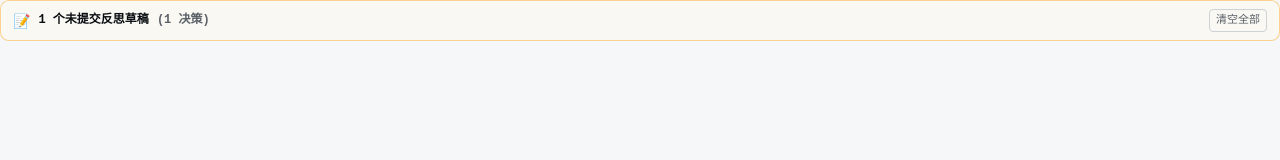
Test: DraftSummaryBanner — 清空全部 › 点"清空全部" → 出现二次确认
Click the button "清空全部" at x=1238, y=20, box [1209,9,1267,32]
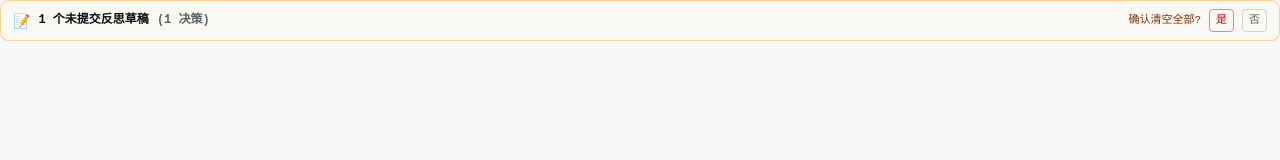
Check: the text "确认清空全部?" is shown, box [1128,12,1201,28]
